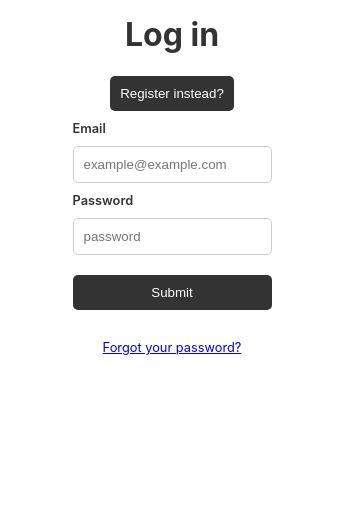
Test: auth page › has button to switch to signup mode
Click the button "Register instead?" at x=172, y=94, box left=110, top=76, right=234, bottom=111
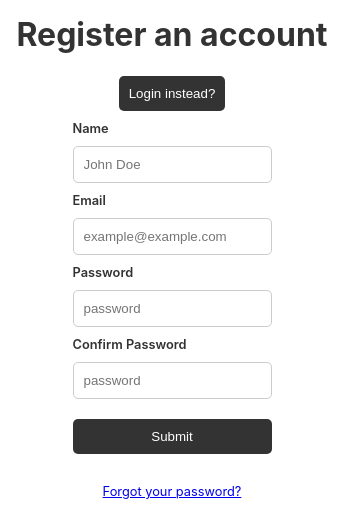
Result: the heading "Register an account" is shown at left=16, top=16, right=328, bottom=55
